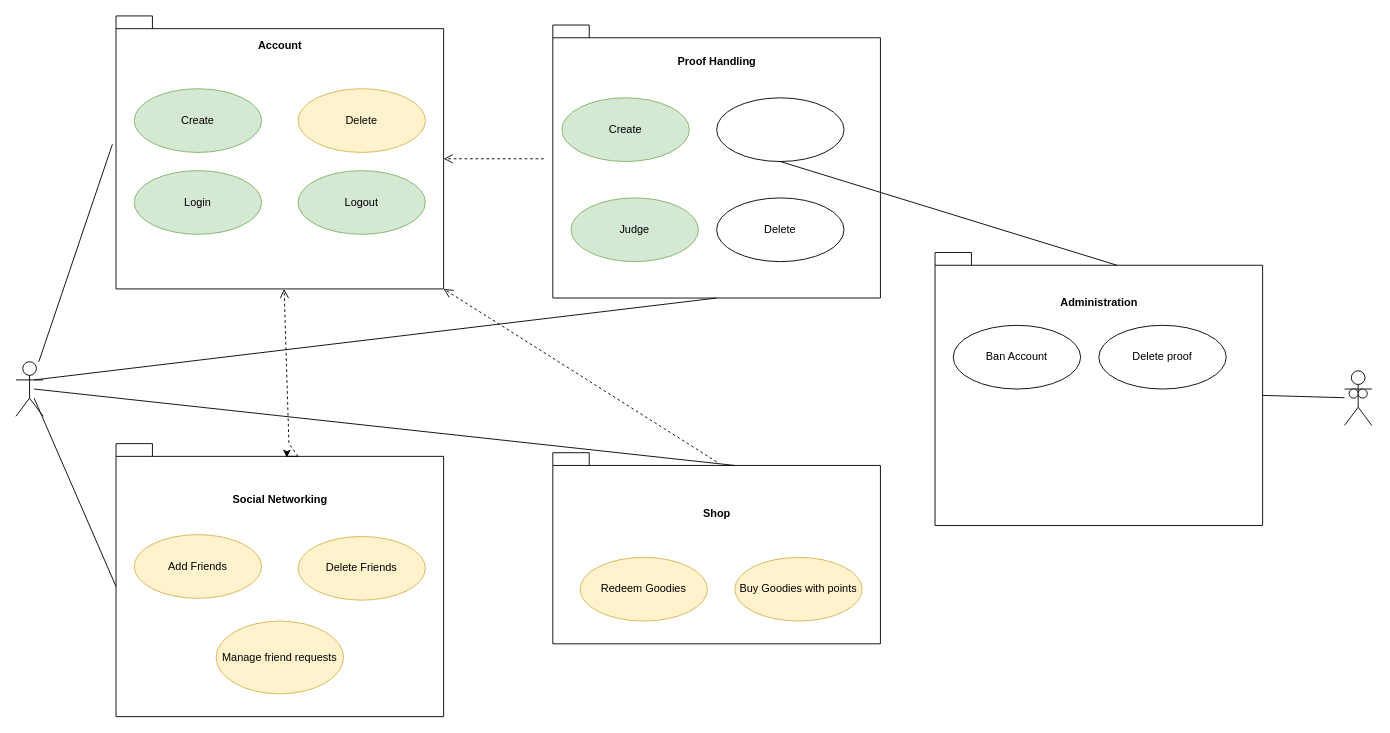
This 1390x733 diagram has some shape labels left out. The centre of each missing label's shape, as x and y in pixels:
"Actor" goes at (x=29, y=388).
"Admin" goes at (x=1358, y=397).
"Report" goes at (x=780, y=129).
